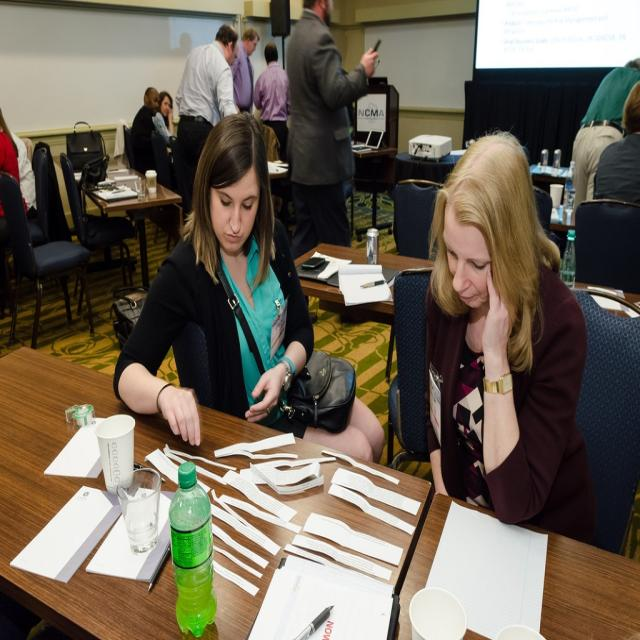body: (111, 108, 386, 469), (422, 130, 596, 548), (286, 0, 380, 261), (173, 22, 240, 225), (569, 56, 640, 228), (592, 80, 640, 237), (128, 86, 176, 193), (0, 108, 38, 242), (252, 41, 292, 164), (230, 26, 261, 115), (153, 91, 174, 147)
